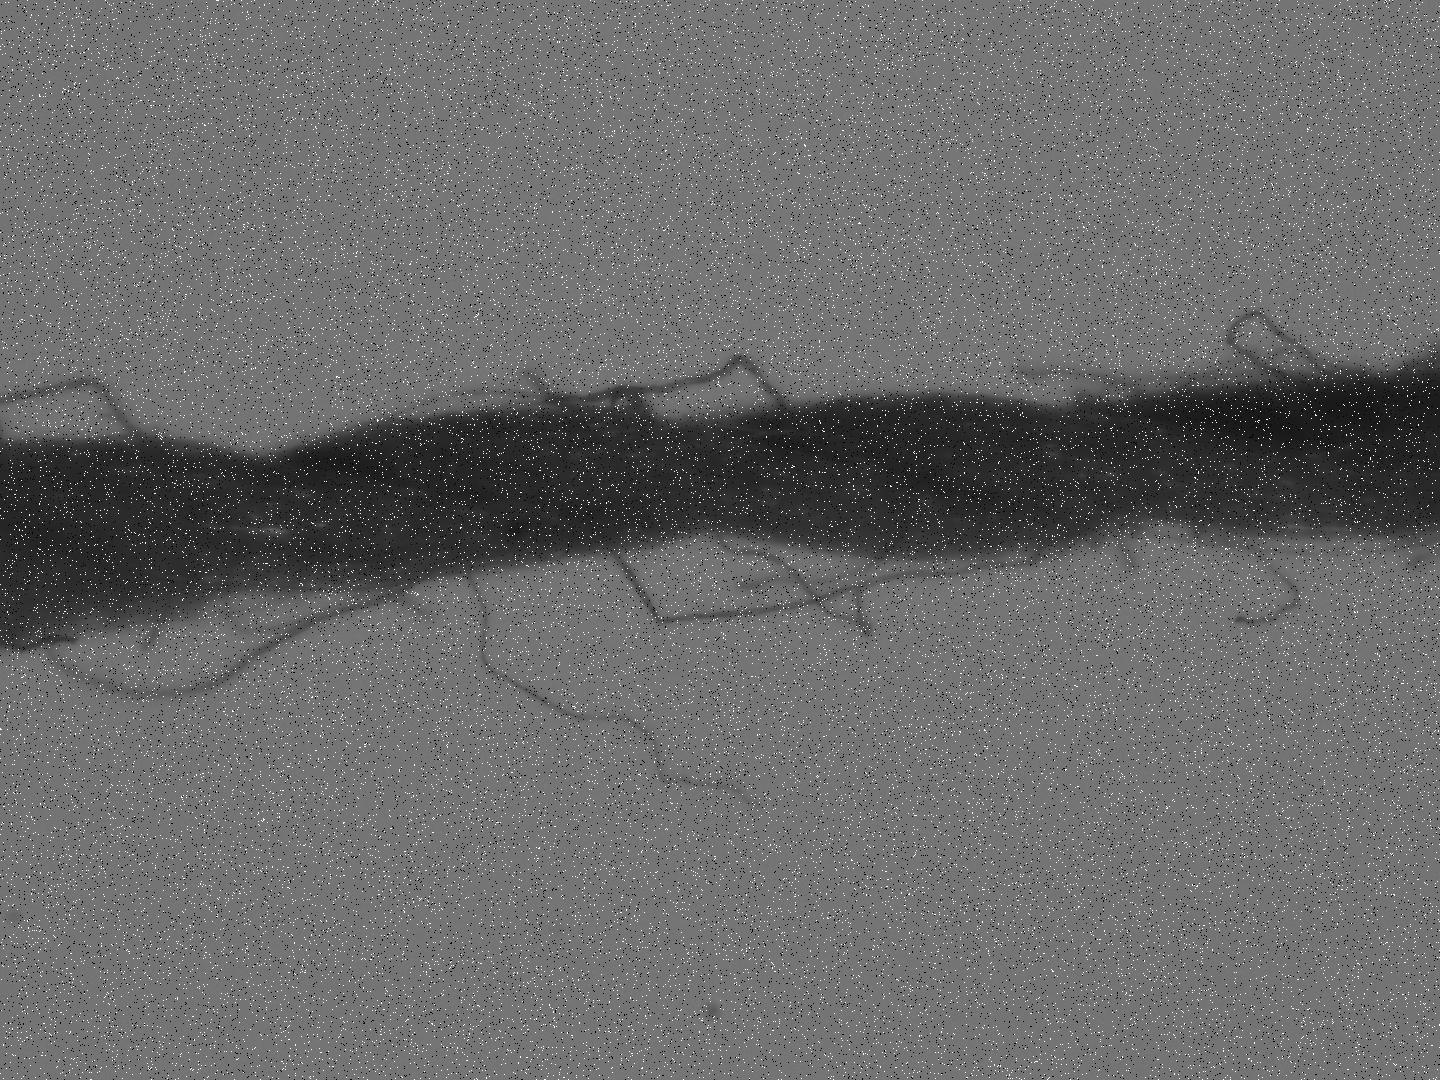loop_fiber: (604, 517, 1121, 638), (3, 582, 430, 703), (388, 346, 788, 422), (1117, 515, 1440, 563), (1225, 305, 1366, 385), (3, 373, 150, 449), (1073, 366, 1279, 413)
protruding_fiber: (463, 567, 763, 813), (1176, 520, 1304, 627), (730, 549, 891, 594), (1014, 362, 1146, 397)
